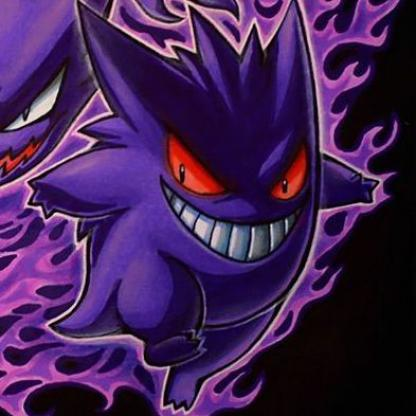Gengar: (42, 10, 387, 398)
